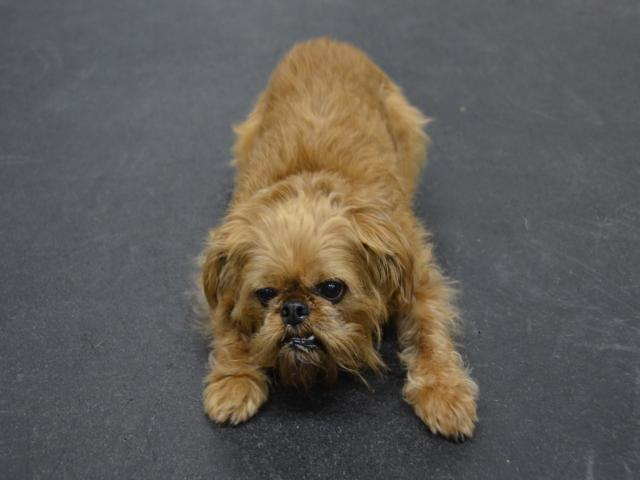Dog: (184, 37, 483, 444)
